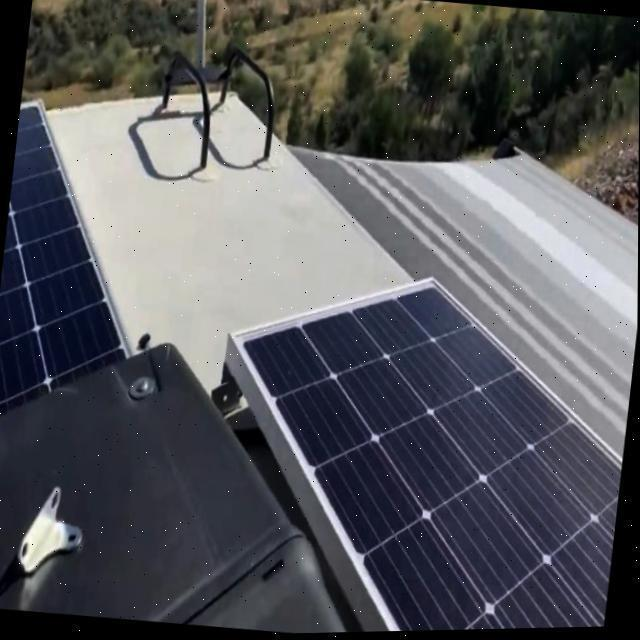Normal Solar Panel: (202, 256, 638, 636), (0, 95, 160, 453)
